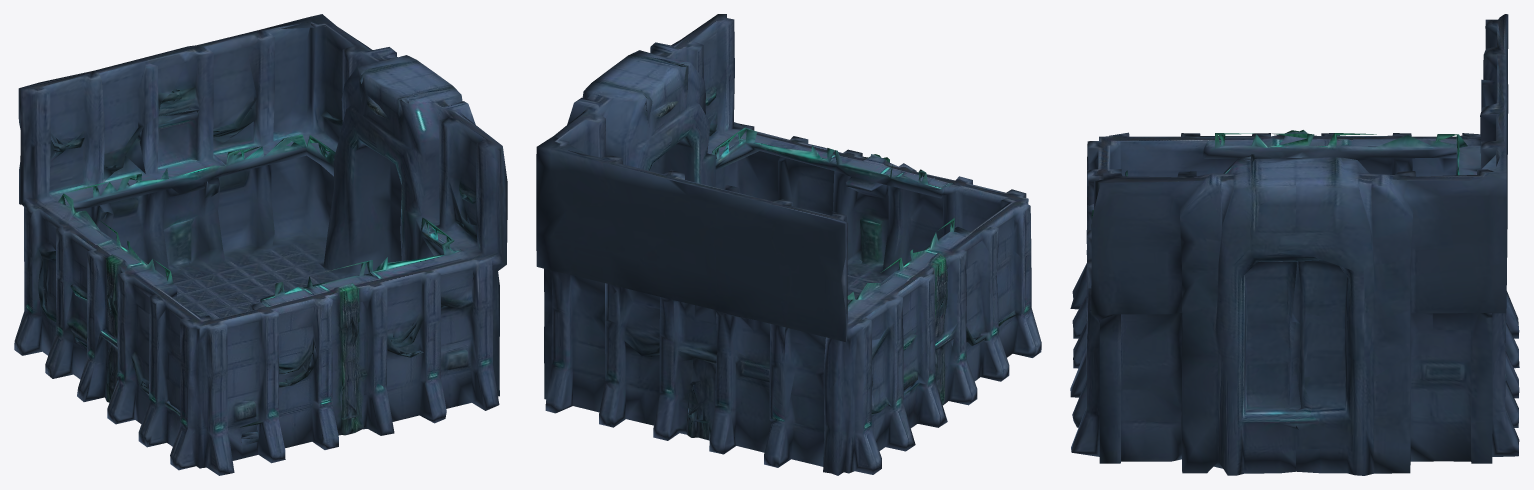
File: hangar.glb
The picture shows the model from 3 angles, left to right: view 1: azimuth 30°, elevation 25°; view 2: azimuth 150°, elevation 25°; view 3: azimuth 270°, elevation 25°; orthographic projection. The views are drawn at different scales.
Parts seen in each view (by area): view 1: tripo_node_ee5eabac-1ff3-43c6-b063-17646e4a189c; view 2: tripo_node_ee5eabac-1ff3-43c6-b063-17646e4a189c; view 3: tripo_node_ee5eabac-1ff3-43c6-b063-17646e4a189c.
Boxes of the visible parts, x1=… form: tripo_node_ee5eabac-1ff3-43c6-b063-17646e4a189c: x1=14, y1=14, x2=507, y2=475; tripo_node_ee5eabac-1ff3-43c6-b063-17646e4a189c: x1=536, y1=14, x2=1041, y2=475; tripo_node_ee5eabac-1ff3-43c6-b063-17646e4a189c: x1=1070, y1=14, x2=1519, y2=475.
Bounding box in the file's own units: 0.982 × 0.7315 × 0.9824.
1 material, 1 textured.
